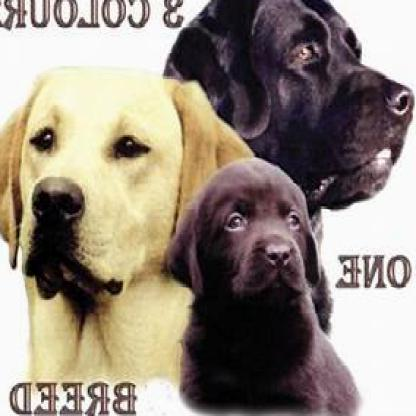dog: (2, 71, 224, 385), (161, 0, 413, 220), (164, 154, 359, 414)
